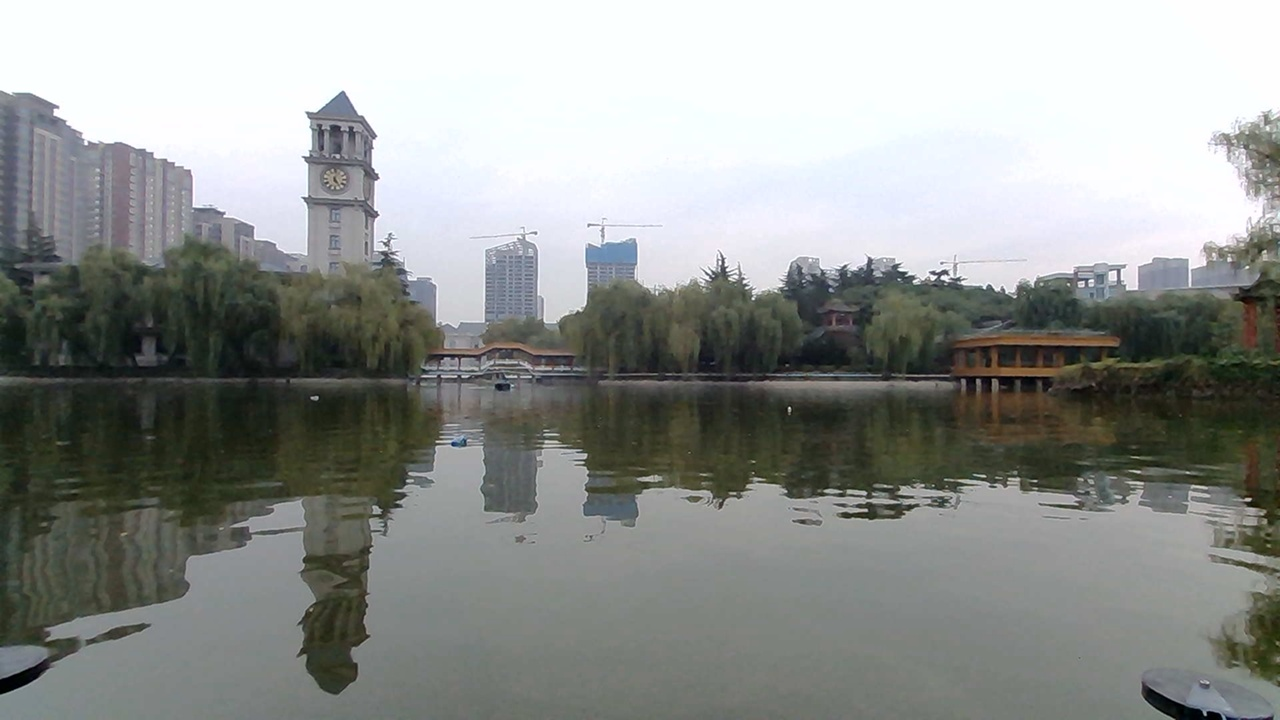bottle: (445, 426, 484, 450), (776, 398, 800, 422), (301, 387, 324, 405)
